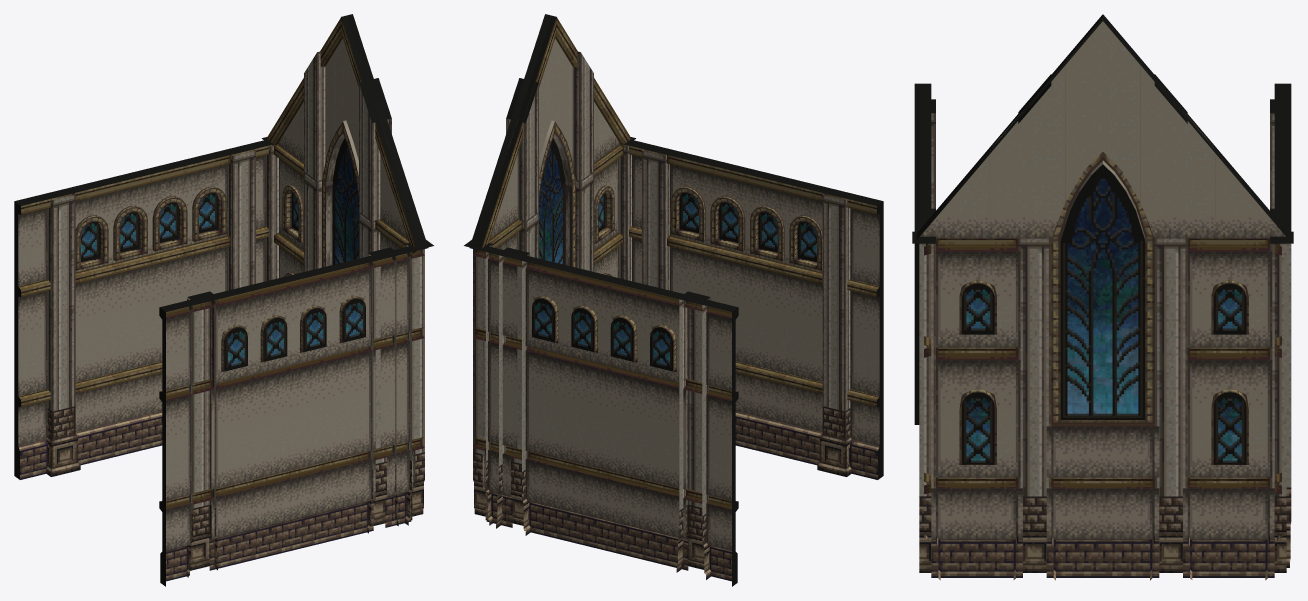
File: ObjMD_Church_A_Room.FBX
The picture shows the model from 3 angles, left to right: view 1: azimuth 30°, elevation 25°; view 2: azimuth 150°, elevation 25°; view 3: azimuth 270°, elevation 25°; orthographic projection. The views are drawn at different scales.
Parts seen in each view (by area): view 1: ObjMD_Church_A_Room; view 2: ObjMD_Church_A_Room; view 3: ObjMD_Church_A_Room.
Boxes of the visible parts, box(x1,y1,x2,y2) form: ObjMD_Church_A_Room: box(14, 14, 433, 586); ObjMD_Church_A_Room: box(464, 14, 883, 586); ObjMD_Church_A_Room: box(912, 14, 1293, 580).
Size of the model in its own units: 1019 by 1650 by 1013.
